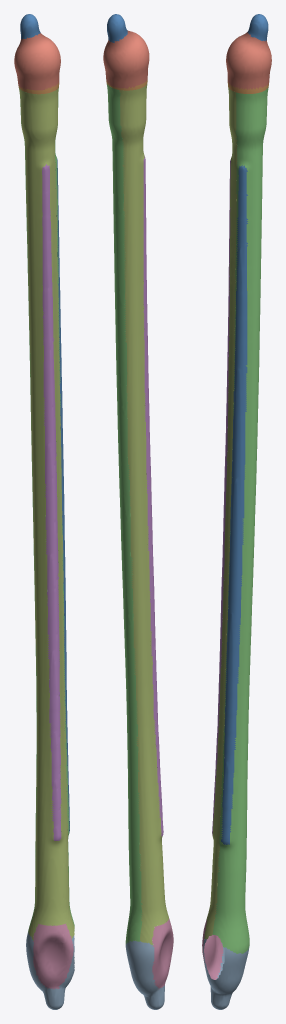
Rendered from perone-anterior.glb.
The picture shows the model from 3 angles, left to right: view 1: azimuth 90°, elevation 25°; view 2: azimuth 150°, elevation 25°; view 3: azimuth 330°, elevation 25°; orthographic projection.
Parts seen in each view (by area): view 1: fibula_L_medial_surface, fibula_L_interosseous_border, fibula_L_malleolar_facet, fibula_L_head, fibula_L_lateral_surface, fibula_L_anterior_border, fibula_L_lateral_malleolus, fibula_L_apex, fibula_L_neck; view 2: fibula_L_medial_surface, fibula_L_lateral_surface, fibula_L_interosseous_border, fibula_L_head, fibula_L_lateral_malleolus, fibula_L_malleolar_facet, fibula_L_apex; view 3: fibula_L_lateral_surface, fibula_L_anterior_border, fibula_L_medial_surface, fibula_L_head, fibula_L_lateral_malleolus, fibula_L_interosseous_border, fibula_L_malleolar_facet, fibula_L_apex, fibula_L_neck.
Boxes of the visible parts, x1,y1,x2,y2 form: fibula_L_medial_surface: (19, 87, 74, 940); fibula_L_interosseous_border: (42, 164, 61, 840); fibula_L_malleolar_facet: (33, 923, 73, 989); fibula_L_head: (14, 33, 60, 90); fibula_L_lateral_surface: (19, 87, 74, 931); fibula_L_anterior_border: (56, 158, 69, 831); fibula_L_lateral_malleolus: (26, 932, 74, 1009); fibula_L_apex: (20, 14, 40, 39); fibula_L_neck: (18, 82, 59, 94); fibula_L_medial_surface: (119, 84, 168, 945); fibula_L_lateral_surface: (106, 84, 142, 944); fibula_L_interosseous_border: (143, 156, 163, 836); fibula_L_head: (103, 30, 149, 88); fibula_L_lateral_malleolus: (125, 940, 164, 1009); fibula_L_malleolar_facet: (152, 918, 173, 989); fibula_L_apex: (107, 14, 127, 42); fibula_L_lateral_surface: (212, 87, 268, 953); fibula_L_anterior_border: (221, 165, 247, 844); fibula_L_medial_surface: (204, 86, 247, 938); fibula_L_head: (226, 32, 271, 89); fibula_L_lateral_malleolus: (203, 938, 249, 1009); fibula_L_interosseous_border: (212, 160, 230, 835); fibula_L_malleolar_facet: (202, 919, 223, 979); fibula_L_apex: (247, 14, 268, 41); fibula_L_neck: (227, 82, 269, 93).
Size of the model in its own units: 0.0223 by 0.3944 by 0.022.
